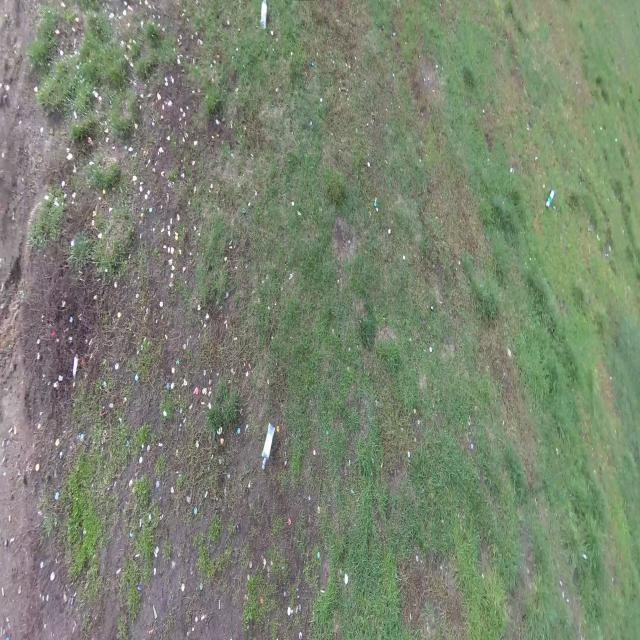rubbish: (261, 421, 276, 474), (545, 189, 555, 212), (260, 0, 267, 29), (73, 353, 78, 381)
